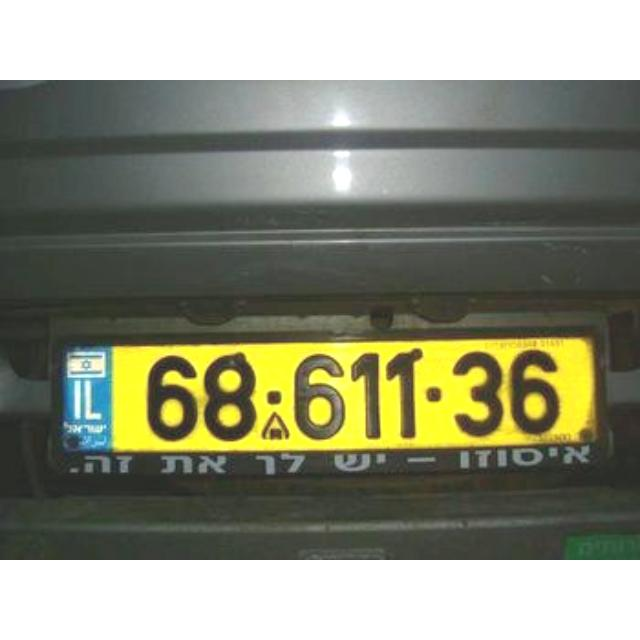plate: (121, 348, 589, 444)
